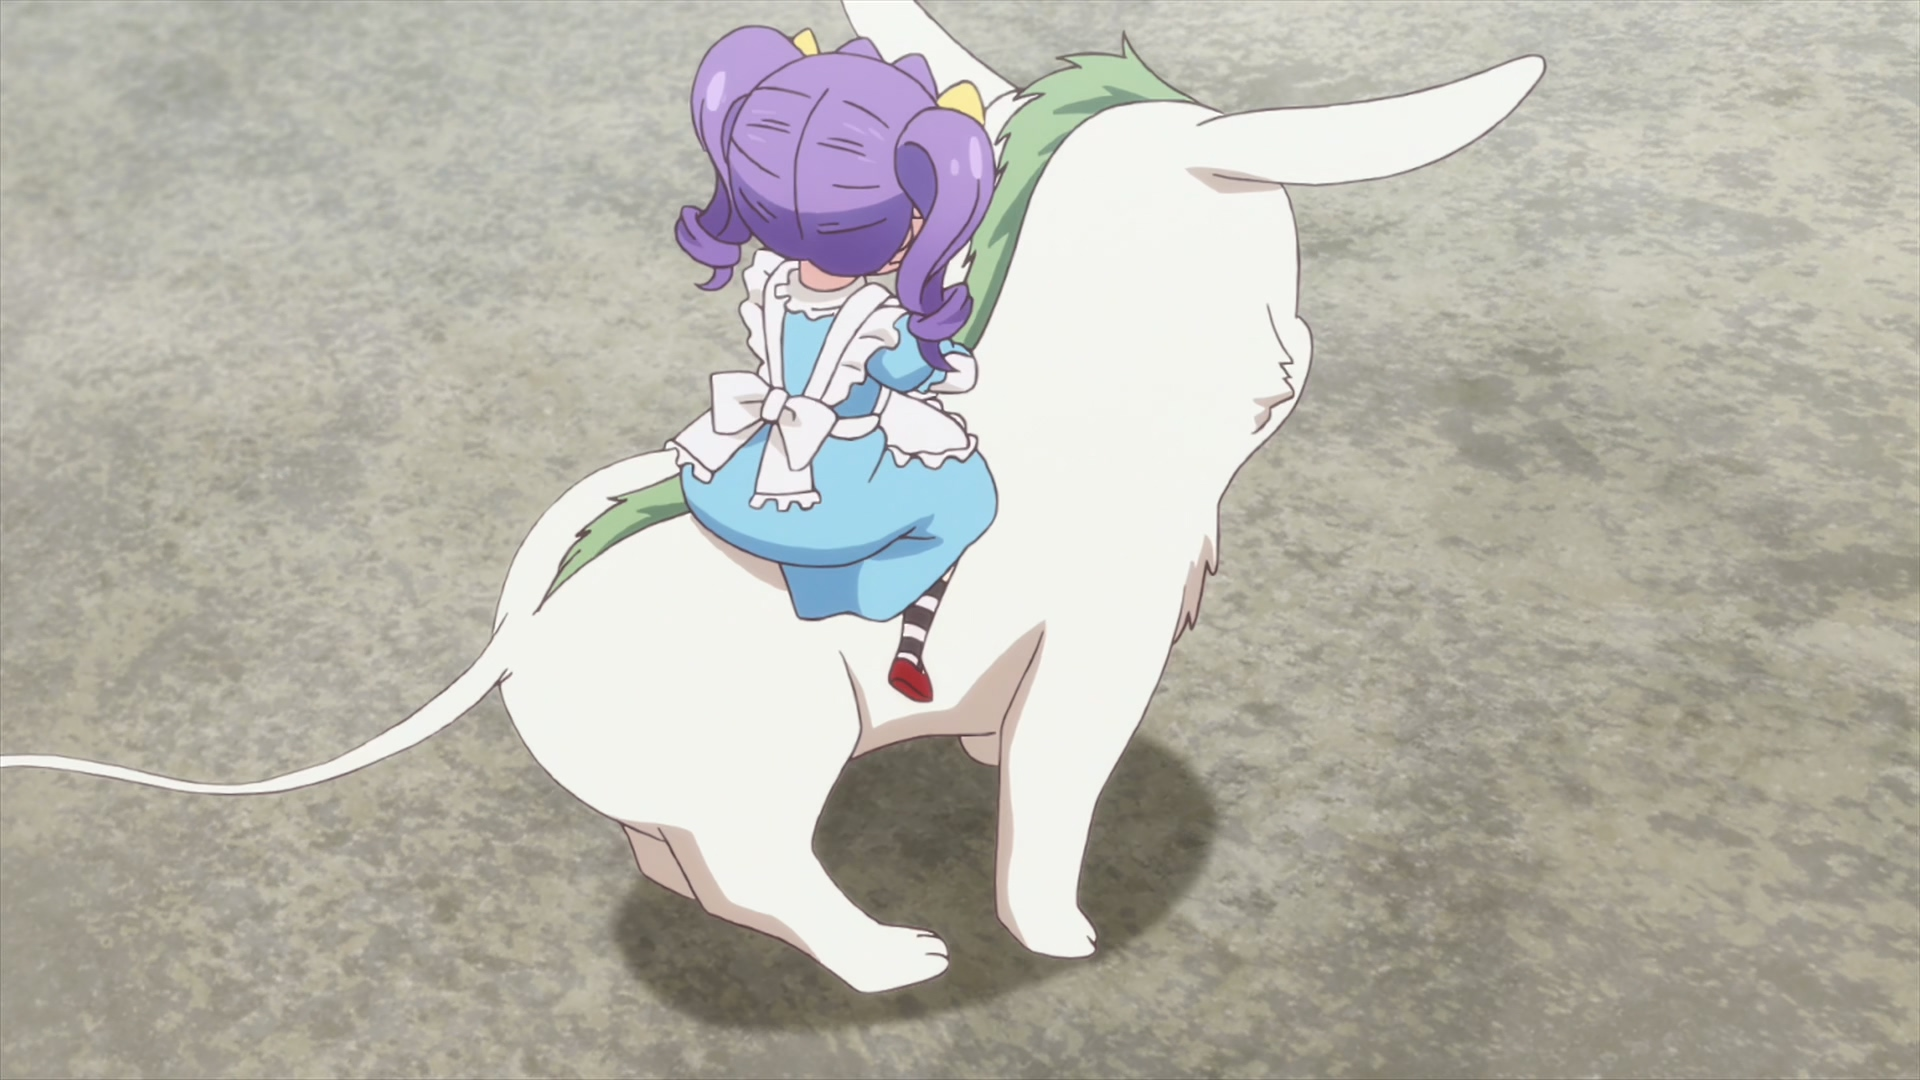瓜之介: (1, 1, 1545, 996)
阿菊: (676, 24, 998, 704)
